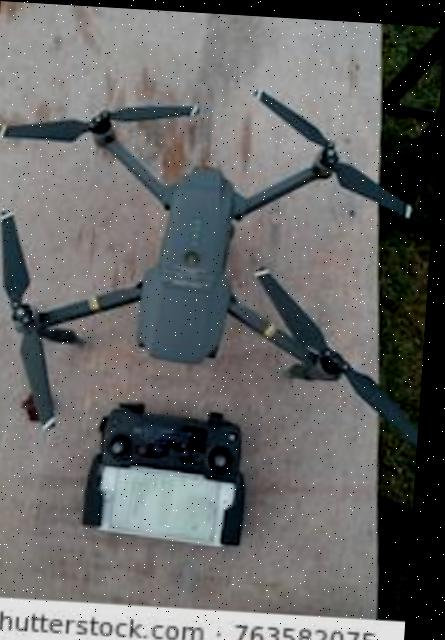drone: (0, 40, 443, 453)
